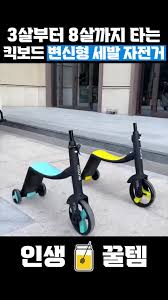kick_wheel: (69, 195, 94, 233), (129, 178, 154, 204), (12, 188, 19, 203)
